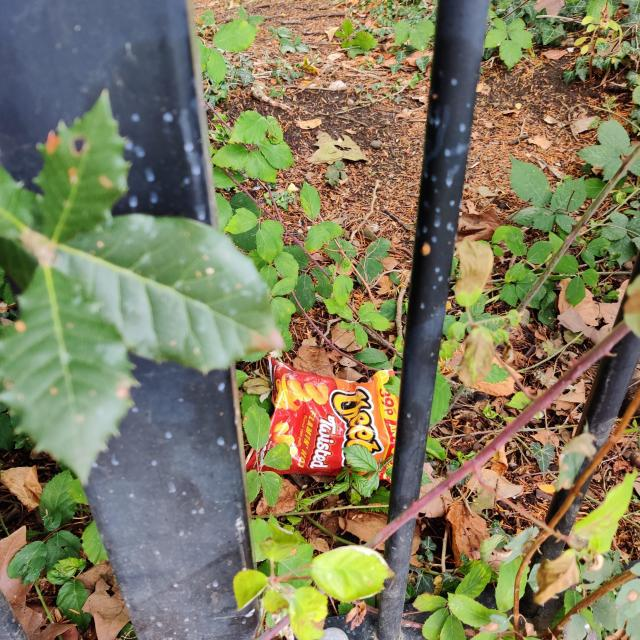litter: (242, 355, 404, 487)
